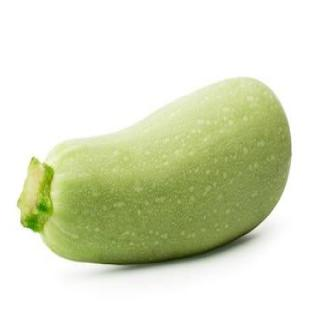Zucchini: (18, 78, 290, 263)
